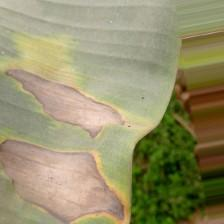cordana: (0, 0, 180, 224)
